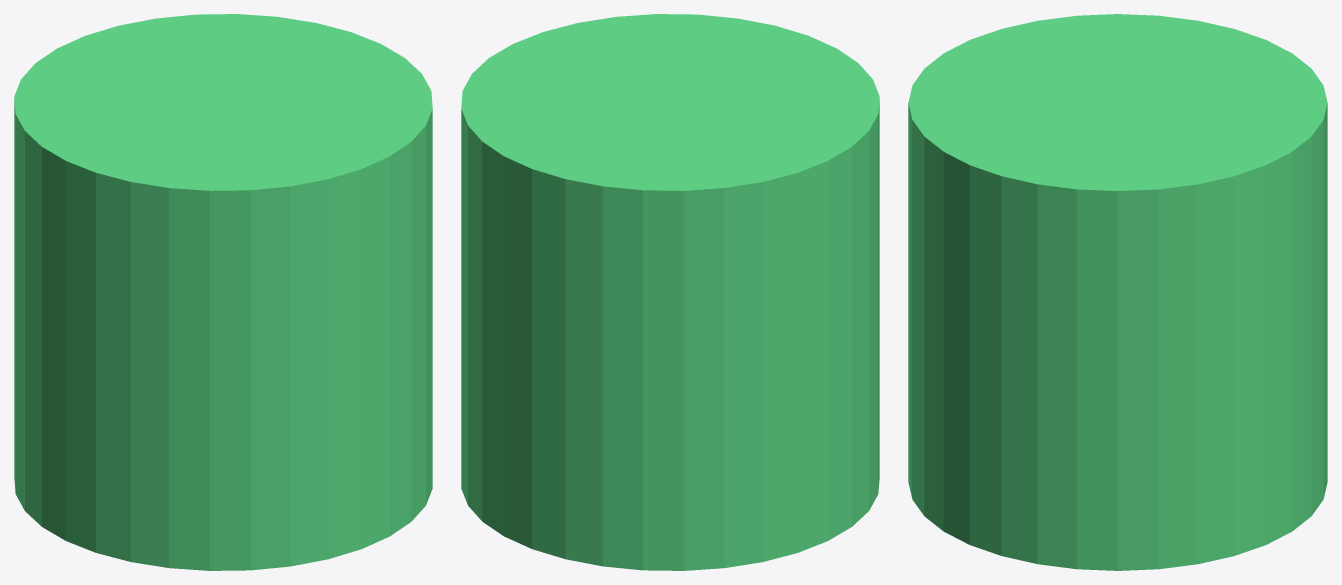
Rendered from CylinderMirror.glb.
3 renders of one model, left to right at view 1: azimuth 30°, elevation 25°; view 2: azimuth 150°, elevation 25°; view 3: azimuth 270°, elevation 25°, orthographic.
Visible parts, largest first — view 1: Cylinder; view 2: Cylinder; view 3: Cylinder.
Part boxes in pixels (x1=…): Cylinder: x1=14, y1=14, x2=432, y2=570; Cylinder: x1=461, y1=14, x2=879, y2=570; Cylinder: x1=908, y1=14, x2=1327, y2=570.
Size of the model in its own units: 2 by 2 by 2.
